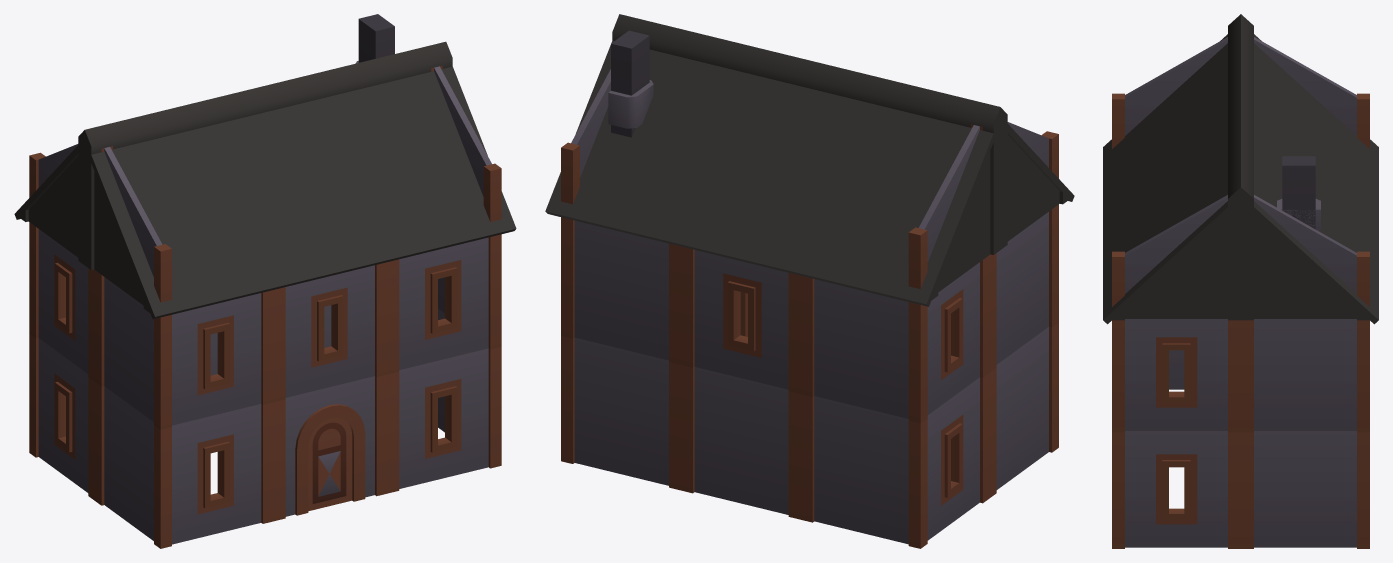
The model's file is maison-volcan-1.glb.
3 views of the same model, side by side, from view 1: azimuth 30°, elevation 25°; view 2: azimuth 150°, elevation 25°; view 3: azimuth 270°, elevation 25° (orthographic). The views are drawn at different scales.
Parts seen in each view (by area): view 1: wall-window-small, roof-high; view 2: wall-window-small, roof-high; view 3: wall-window-small, roof-high.
Part boxes in pixels (left/top/right/bottom): wall-window-small: left=29, top=14, right=501, bottom=548; roof-high: left=14, top=41, right=516, bottom=319; wall-window-small: left=561, top=30, right=1058, bottom=548; roof-high: left=545, top=14, right=1074, bottom=306; wall-window-small: left=1112, top=37, right=1369, bottom=548; roof-high: left=1103, top=14, right=1378, bottom=324.
Bounding box in the file's own units: 9.54 × 9.6 × 6.42.
Materials: 2 (1 with a texture image).
